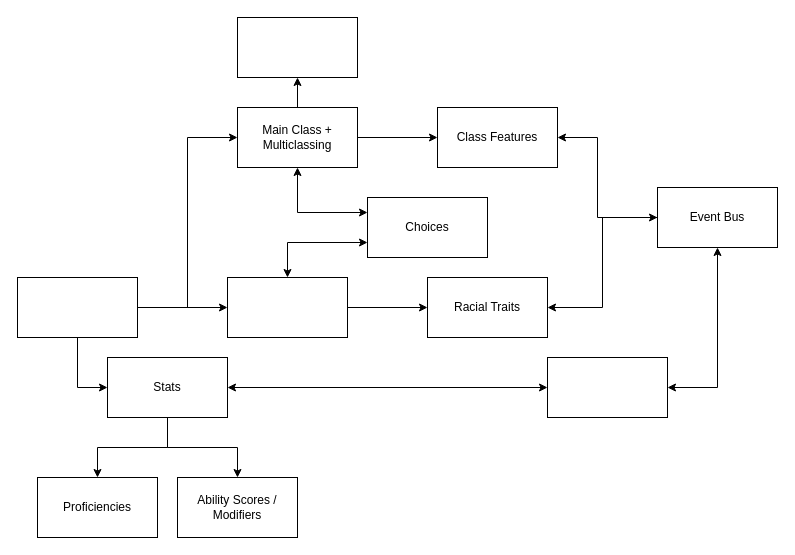
Some shapes in this 795 by 555 pixel diagram are drawn without their labels. Each missing label, with the centre of its shape:
"Character Sheet" goes at pixel 77 307.
"Class Level" goes at pixel 297 47.
"Race + Subrace" goes at pixel 287 307.
"Update Type Events" goes at pixel 607 387.
